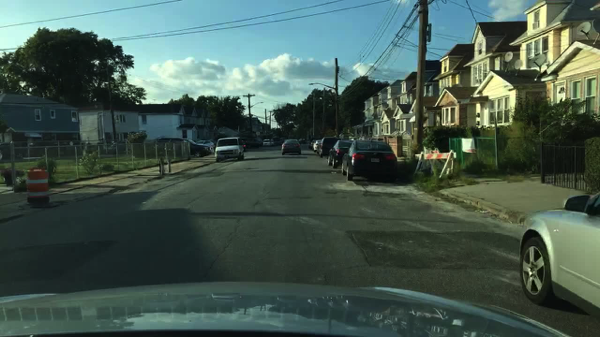car: (516, 185, 600, 324), (342, 140, 399, 184), (151, 137, 211, 159), (326, 140, 354, 169), (214, 137, 244, 162), (26, 141, 63, 159), (99, 140, 132, 156), (318, 136, 340, 158), (281, 139, 302, 156), (0, 140, 16, 161), (245, 137, 261, 148), (237, 137, 246, 150), (313, 139, 321, 153), (199, 140, 214, 147), (309, 140, 316, 149), (298, 137, 306, 144), (272, 137, 279, 144), (262, 139, 270, 145), (279, 138, 283, 144)
traffic sign: (256, 130, 260, 136)
